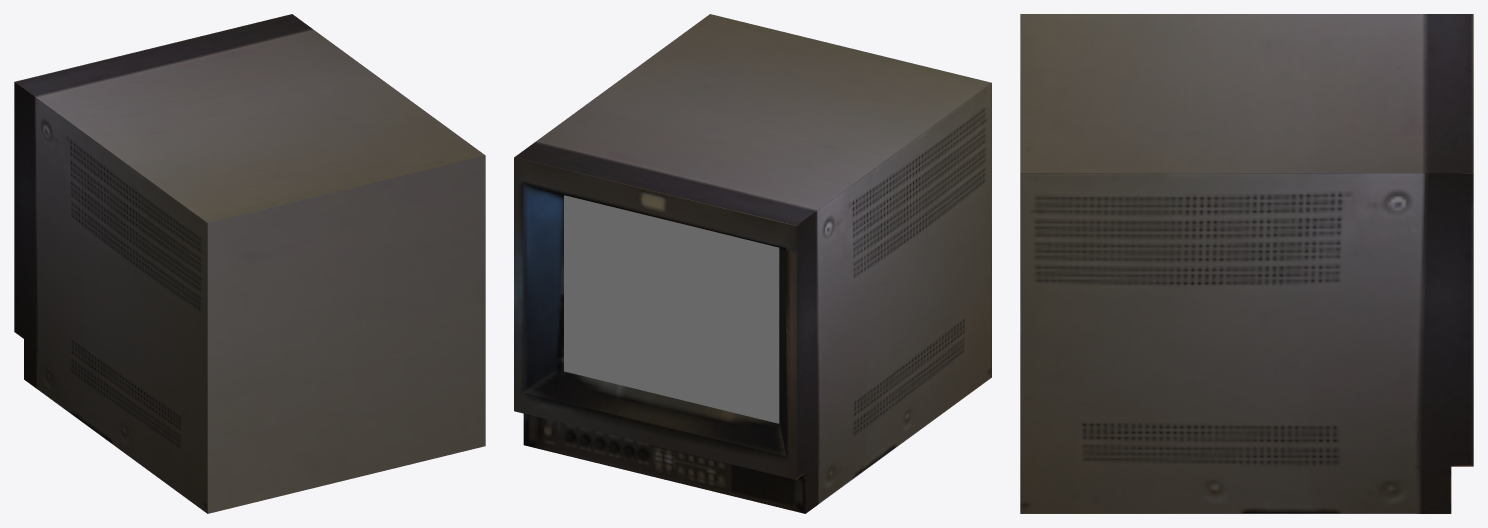
Rendered from pvm.dae.
The picture shows the model from 3 angles, left to right: view 1: azimuth 30°, elevation 25°; view 2: azimuth 150°, elevation 25°; view 3: azimuth 270°, elevation 25°; orthographic projection. The views are drawn at different scales.
Visible parts, largest first — view 1: pvm; view 2: pvm; view 3: pvm.
Boxes of the visible parts, left/top/right/bottom form: pvm: left=14, top=14, right=485, bottom=513; pvm: left=514, top=14, right=991, bottom=513; pvm: left=1020, top=14, right=1473, bottom=513.
Size of the model in its own units: 9.78 by 11.78 by 9.78.
2 materials, 1 textured.
